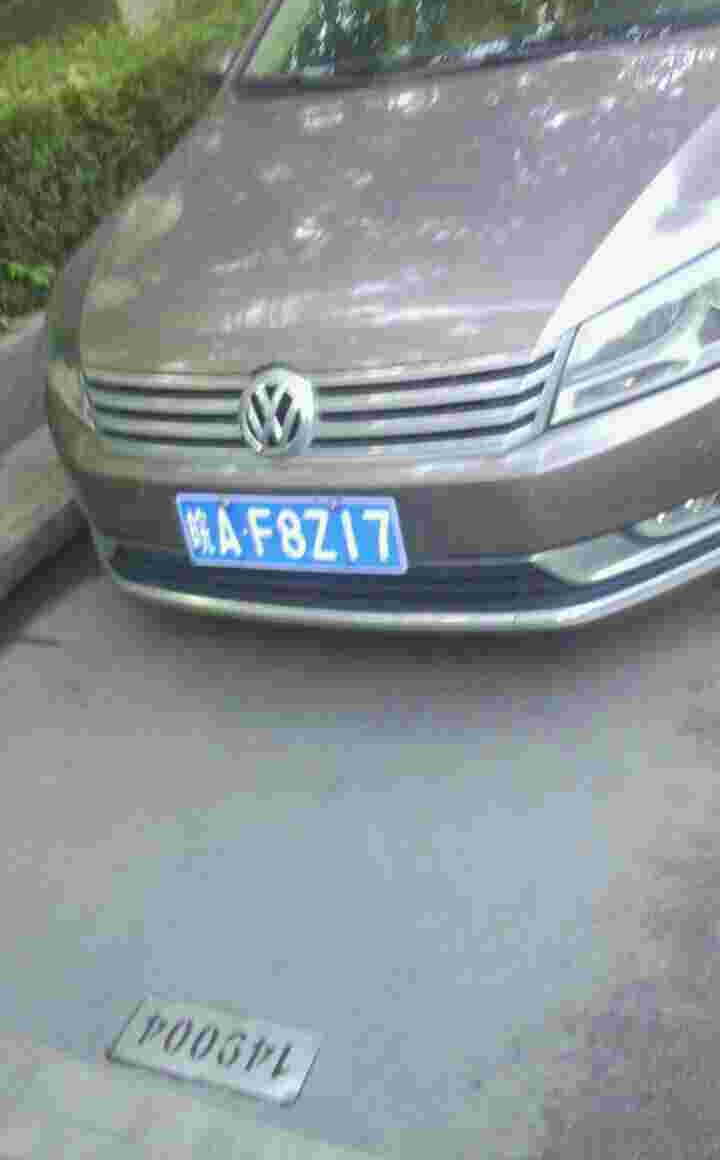license_plate: (176, 494, 415, 575)
